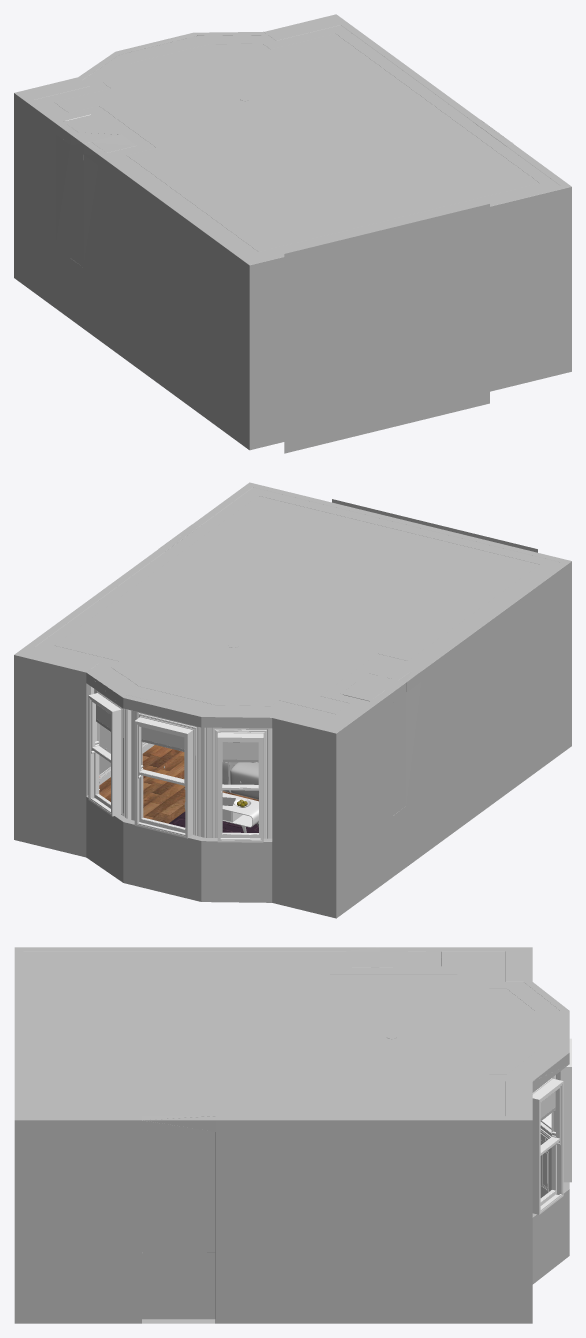
The model's file is white_room.glb.
3 views of the same model, one above another, from view 1: azimuth 30°, elevation 25°; view 2: azimuth 150°, elevation 25°; view 3: azimuth 270°, elevation 25° (orthographic). The views are drawn at different scales.
Visible parts, largest first — view 1: 125_Walls, 121_Walls, 01_Walls; view 2: 125_Walls, 121_Walls, 129_WhitePaint, 131_WhitePaint, 122_Floor, 126_WhitePaint, 130_WhitePaint, 127_WhitePaint, 128_WhitePaint, 01_Walls, 139_SofaLeather, 73_Table (+2 smaller); view 3: 125_Walls, 121_Walls, 126_WhitePaint, 130_WhitePaint, 127_WhitePaint.
Part boxes in pixels (left/top/right/bottom): 125_Walls: left=14, top=14, right=571, bottom=450; 121_Walls: left=34, top=25, right=559, bottom=260; 01_Walls: left=284, top=204, right=489, bottom=453; 125_Walls: left=14, top=482, right=571, bottom=918; 121_Walls: left=34, top=487, right=559, bottom=722; 129_WhitePaint: left=205, top=727, right=272, bottom=838; 131_WhitePaint: left=131, top=710, right=205, bottom=837; 122_Floor: left=99, top=745, right=258, bottom=823; 126_WhitePaint: left=88, top=693, right=122, bottom=816; 130_WhitePaint: left=134, top=717, right=193, bottom=838; 127_WhitePaint: left=91, top=686, right=131, bottom=819; 128_WhitePaint: left=217, top=732, right=263, bottom=842; 01_Walls: left=332, top=499, right=537, bottom=552; 139_SofaLeather: left=230, top=762, right=258, bottom=799; 73_Table: left=184, top=792, right=258, bottom=827; 125_Walls: left=14, top=947, right=569, bottom=1323; 121_Walls: left=23, top=951, right=560, bottom=1116; 126_WhitePaint: left=532, top=1078, right=563, bottom=1214; 130_WhitePaint: left=560, top=1038, right=571, bottom=1182; 127_WhitePaint: left=532, top=1071, right=560, bottom=1205.
Bounding box in the file's own units: 5.73 × 3.39 × 7.81.
44 materials, 13 textured.
